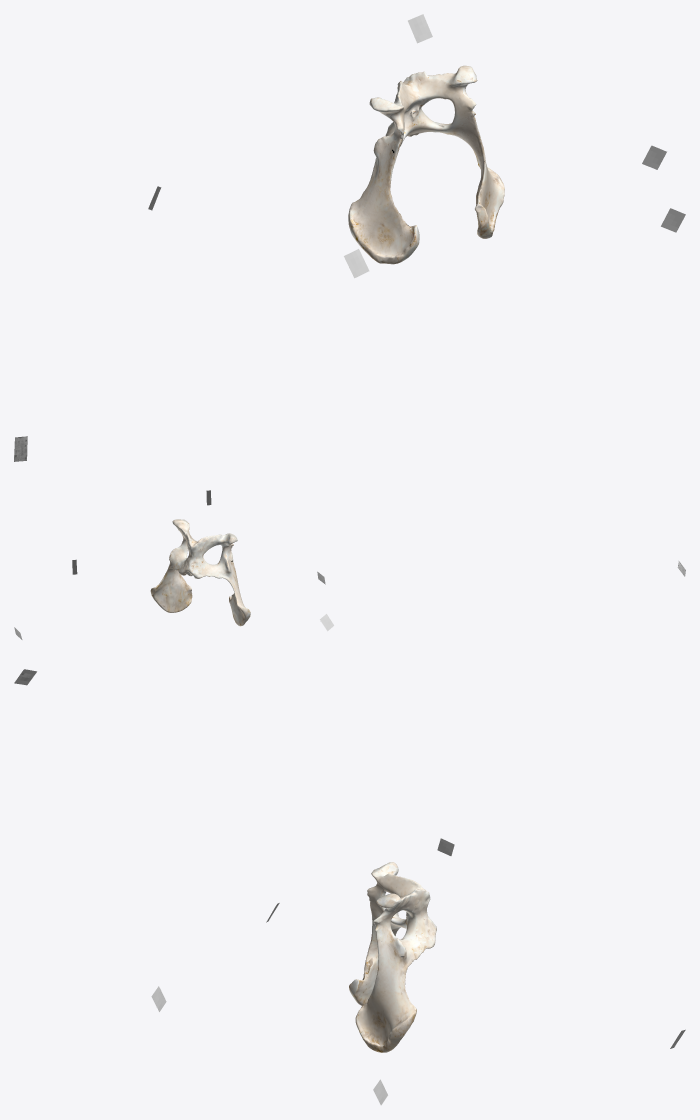
The model's file is sacred-bone-3.glb.
3 views of the same model, one above another, from view 1: azimuth 30°, elevation 25°; view 2: azimuth 150°, elevation 25°; view 3: azimuth 270°, elevation 25° (orthographic). The views are drawn at different scales.
Visible parts, largest first — view 1: sacrum-bon; view 2: sacrum-bon; view 3: sacrum-bon.
Boxes of the visible parts, <box> form: sacrum-bon: <box>348,65,504,264</box>; sacrum-bon: <box>150,519,250,626</box>; sacrum-bon: <box>349,862,436,1052</box>.
Bounding box in the file's own units: 26.43 × 4.95 × 20.2.
Materials: 4 (2 with a texture image).
